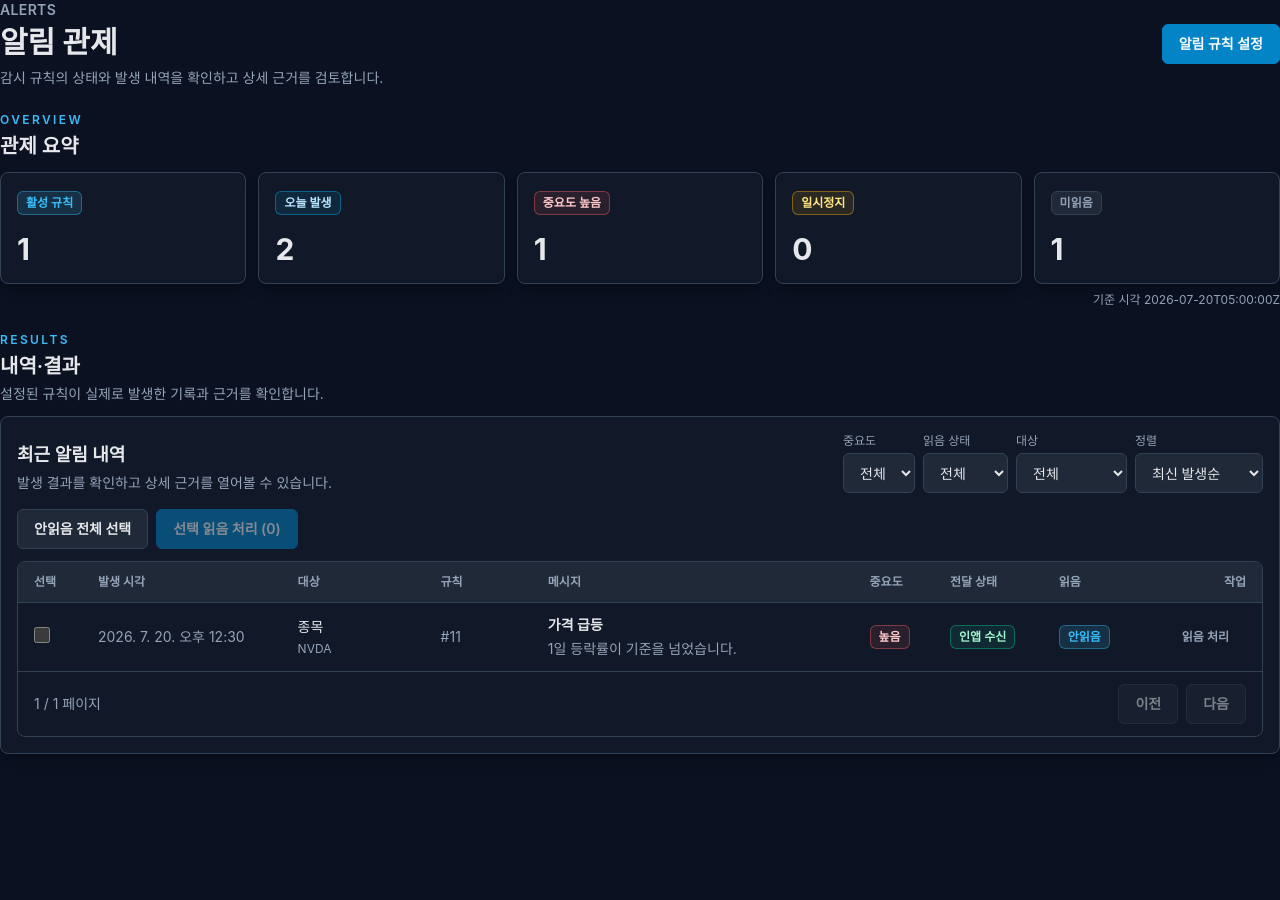
Test: AlertsPage › opens the existing alert detail when an event is selected
Click the text "가격 급등": (575, 624) [548,616,603,633]
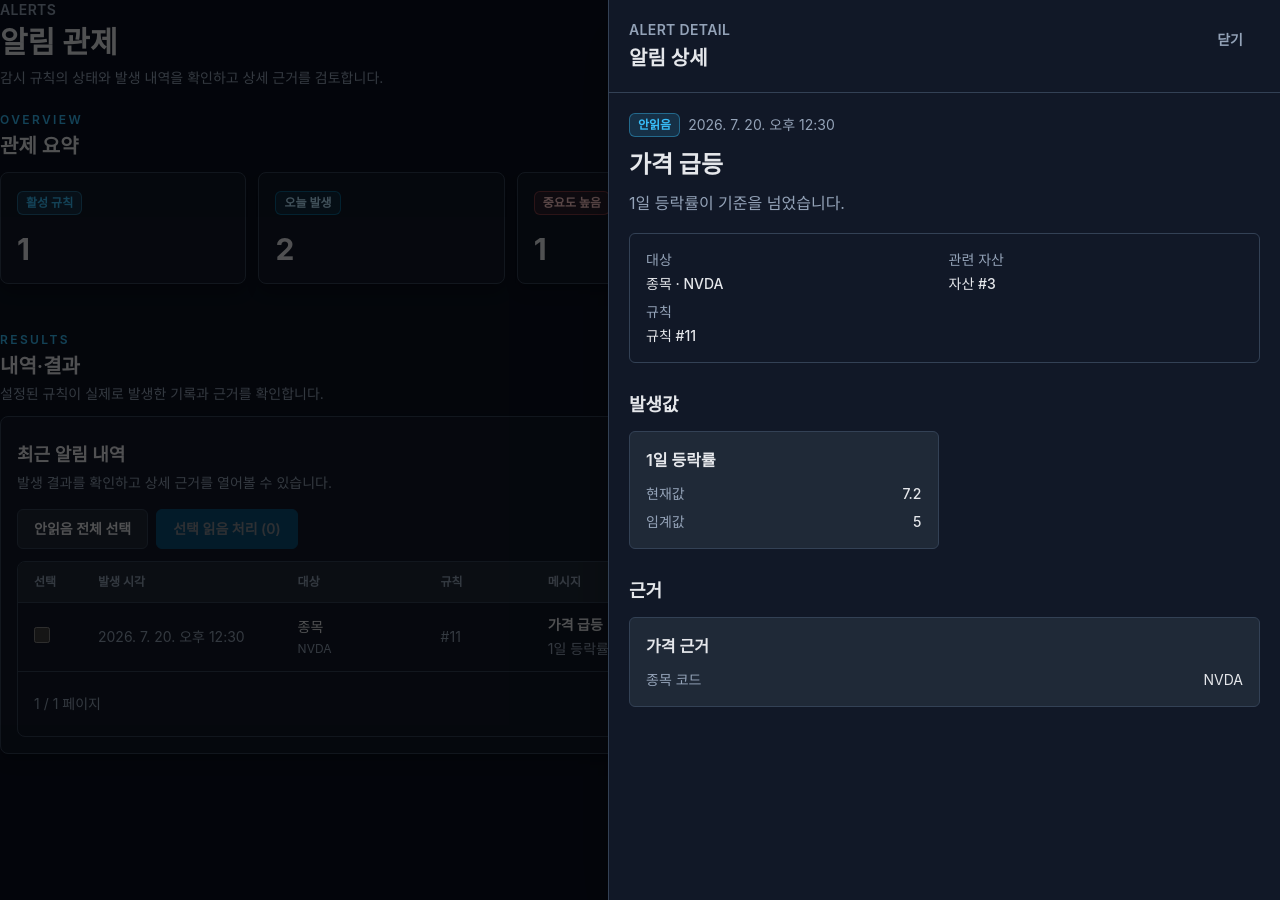
expect the dialog "알림 상세" is shown: met, box [608,0,1279,899]
expect the heading "발생값" is shown: met, box [629,394,679,415]
expect the heading "근거" is shown: met, box [629,580,662,601]
